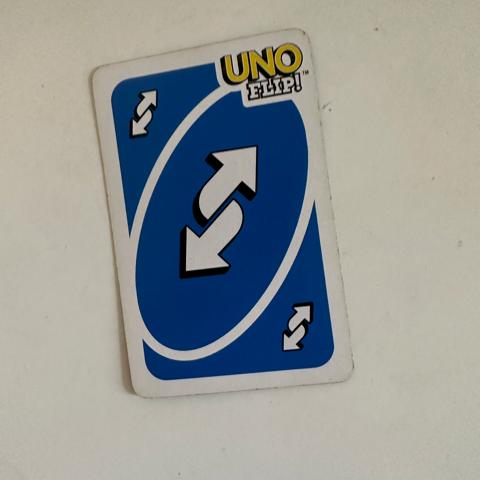lbluerevers-20: (109, 73, 176, 158)
